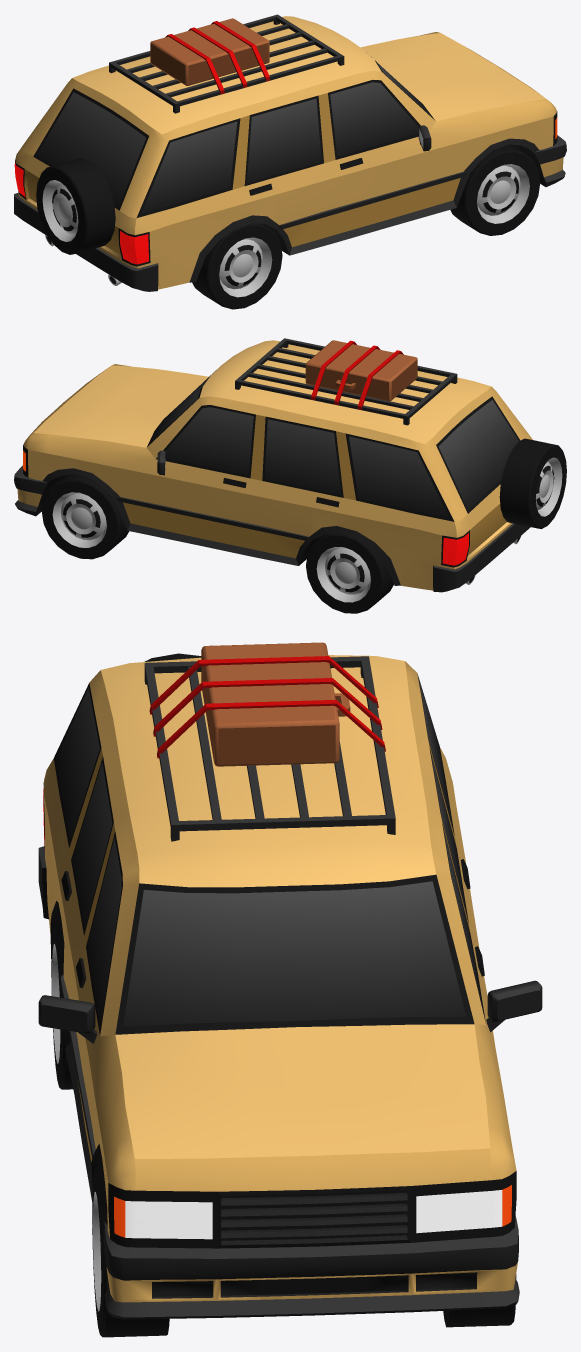
Rendered from Car_029.glb.
The picture shows the model from 3 angles, top to bottom: view 1: azimuth 30°, elevation 25°; view 2: azimuth 150°, elevation 25°; view 3: azimuth 270°, elevation 25°; orthographic projection. The views are drawn at different scales.
Parts seen in each view (by area): view 1: Car_029, wheel_0_Car_029_Wheel_1R, wheel_2_Car_029_Wheel_3R; view 2: Car_029, wheel_1_Car_029_Wheel_2L, wheel_3_Car_029_Wheel_4L; view 3: Car_029, wheel_0_Car_029_Wheel_1R, wheel_2_Car_029_Wheel_3R, wheel_1_Car_029_Wheel_2L.
Boxes of the visible parts, x1,y1,x2,y2 form: Car_029: [14, 14, 566, 291]; wheel_0_Car_029_Wheel_1R: [450, 144, 540, 235]; wheel_2_Car_029_Wheel_3R: [192, 223, 282, 309]; Car_029: [14, 338, 566, 592]; wheel_1_Car_029_Wheel_2L: [41, 473, 129, 559]; wheel_3_Car_029_Wheel_4L: [306, 533, 393, 613]; Car_029: [38, 642, 542, 1319]; wheel_0_Car_029_Wheel_1R: [92, 1166, 169, 1337]; wheel_2_Car_029_Wheel_3R: [51, 921, 73, 1089]; wheel_1_Car_029_Wheel_2L: [441, 1193, 516, 1327].
Size of the model in its own units: 4.77 by 2.05 by 2.23.
2 materials, 2 textured.
